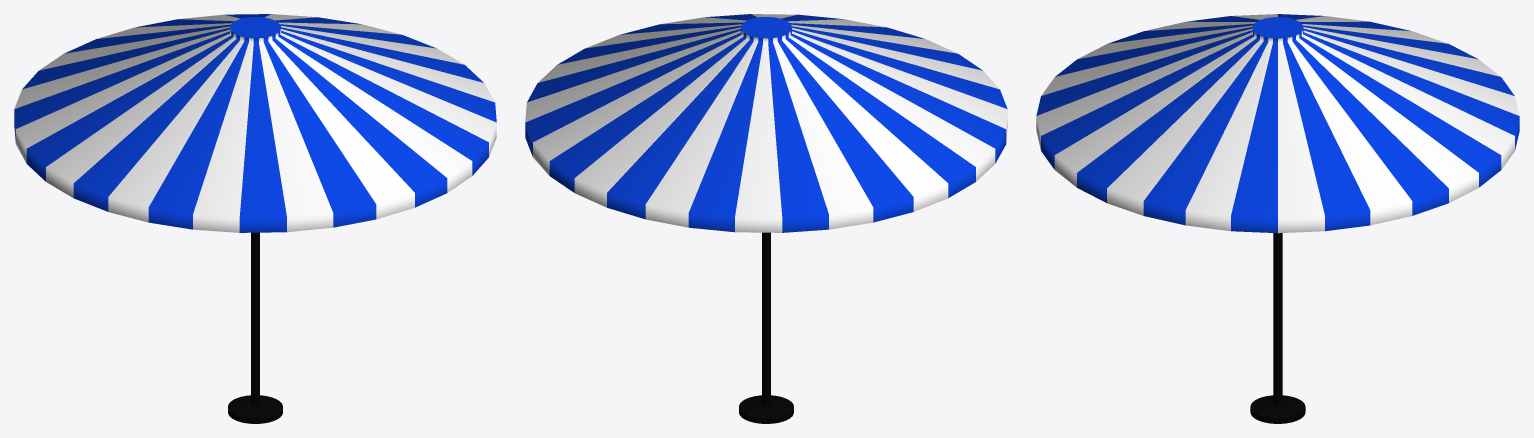
Rendered from parasolbleu.fbx.
3 views of the same model, side by side, from view 1: azimuth 30°, elevation 25°; view 2: azimuth 150°, elevation 25°; view 3: azimuth 270°, elevation 25° (orthographic).
Parts seen in each view (by area): view 1: parasolbleu; view 2: parasolbleu; view 3: parasolbleu.
Part boxes in pixels (x1=…): parasolbleu: x1=14, y1=14, x2=496, y2=423; parasolbleu: x1=525, y1=14, x2=1007, y2=423; parasolbleu: x1=1036, y1=14, x2=1519, y2=423.
Bounding box in the file's own units: 1002 × 879 × 1002.
